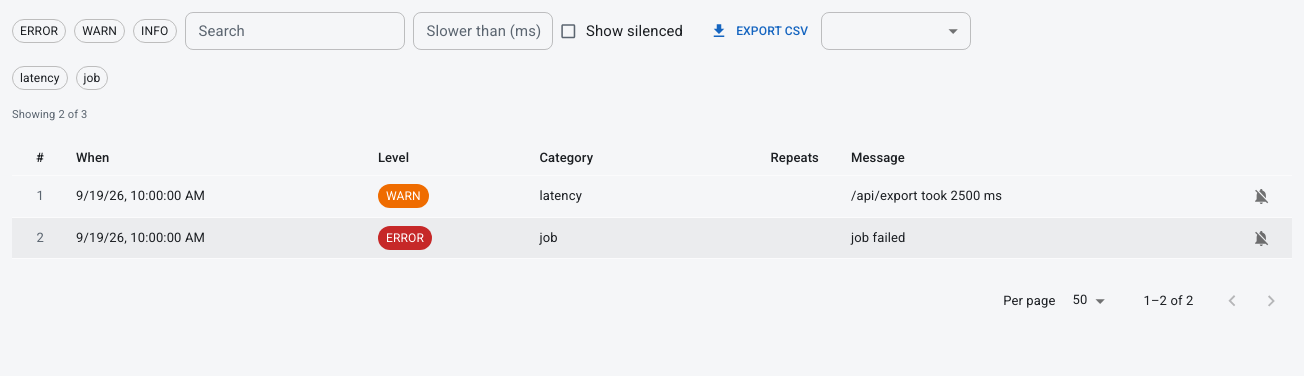
Scenario: AlertsPanel › shows silenced alerts with their reason when asked
Click the checkbox labelled "Show silenced" at x=621, y=31, box [558,22,683,40]
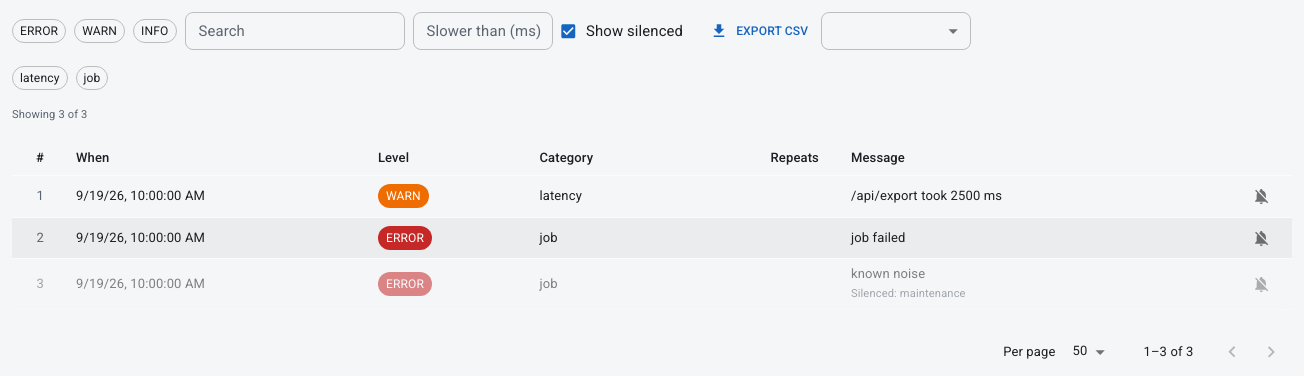
Expected: the text "known noise" is shown, [851,266,925,281]
Expected: the text "Silenced: maintenance" is shown, [851,287,966,300]
